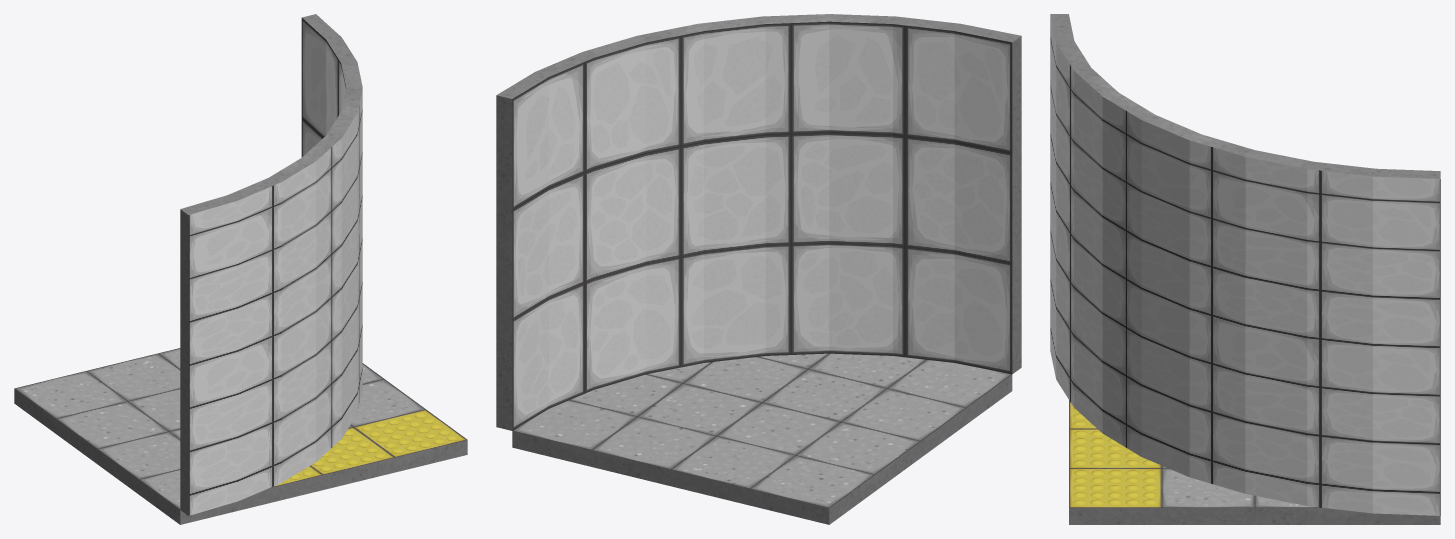
File: SM_Wall_Corner_A.fbx
3 views of the same model, side by side, from view 1: azimuth 30°, elevation 25°; view 2: azimuth 150°, elevation 25°; view 3: azimuth 270°, elevation 25° (orthographic). The views are drawn at different scales.
Visible parts, largest first — view 1: SM_Wall_Corner_A; view 2: SM_Wall_Corner_A; view 3: SM_Wall_Corner_A.
Part boxes in pixels (x1,y1,x2,y2): SM_Wall_Corner_A: [14, 14, 467, 524]; SM_Wall_Corner_A: [496, 14, 1021, 524]; SM_Wall_Corner_A: [1050, 14, 1440, 524].
Size of the model in its own units: 420 by 420 by 420.
